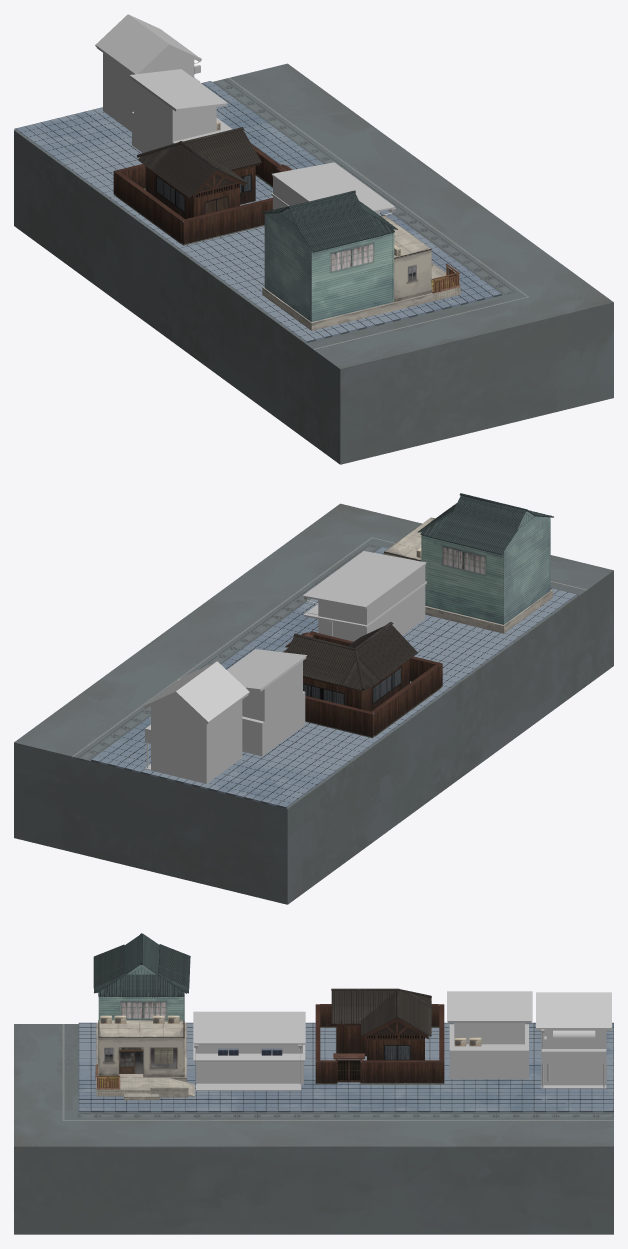
File: Home zone04_01.fbx
3 renders of one model, top to bottom at view 1: azimuth 30°, elevation 25°; view 2: azimuth 150°, elevation 25°; view 3: azimuth 270°, elevation 25°, orthographic. The views are drawn at different scales.
Parts seen in each view (by area): view 1: Cube.008, Cube.061, Cube.096, Circle.003, Cube.040, Cylinder.005, Cube.026, Cube.024; view 2: Cube.008, Cube.096, Cube.061, Cylinder.005, Cube.024, Circle.003, Cube.040, Cube.026; view 3: Cube.008, Cube.096, Cube.061, Cube.024, Cube.040, Cylinder.005, Circle.003, Cube.026.
Boxes of the visible parts, <box> form: Cube.008: <box>14,63,613,464</box>; Cube.061: <box>261,190,460,330</box>; Cube.096: <box>14,81,501,343</box>; Circle.003: <box>136,127,261,218</box>; Cube.040: <box>129,69,232,152</box>; Cylinder.005: <box>95,14,201,131</box>; Cube.026: <box>113,144,292,245</box>; Cube.024: <box>271,162,395,215</box>; Cube.008: <box>14,503,613,904</box>; Cube.096: <box>91,546,578,808</box>; Cube.061: <box>384,493,553,633</box>; Cylinder.005: <box>143,661,249,783</box>; Cube.024: <box>302,551,426,641</box>; Circle.003: <box>285,622,417,711</box>; Cube.040: <box>227,649,307,756</box>; Cube.026: <box>283,631,442,738</box>; Cube.008: <box>14,1024,613,1234</box>; Cube.096: <box>78,1022,613,1112</box>; Cube.061: <box>93,933,194,1100</box>; Cube.024: <box>193,1011,305,1090</box>; Cube.040: <box>447,991,532,1079</box>; Cylinder.005: <box>536,992,611,1088</box>; Circle.003: <box>331,988,431,1060</box>; Cube.026: <box>315,1004,444,1084</box>.
Bounding box in the file's own units: 1002 × 710 × 2069.
